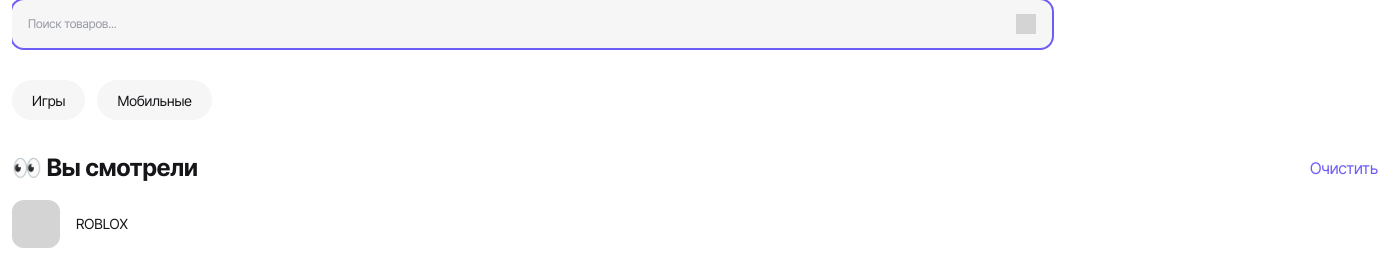
Test: SearchScreen › shows recent searches first and can clear them
expect the heading "👀 Вы смотрели" is shown: met, box x1=12 y1=152 x2=198 y2=184
Click the button "Очистить" at (1344, 168), box x1=1310 y1=156 x2=1378 y2=180
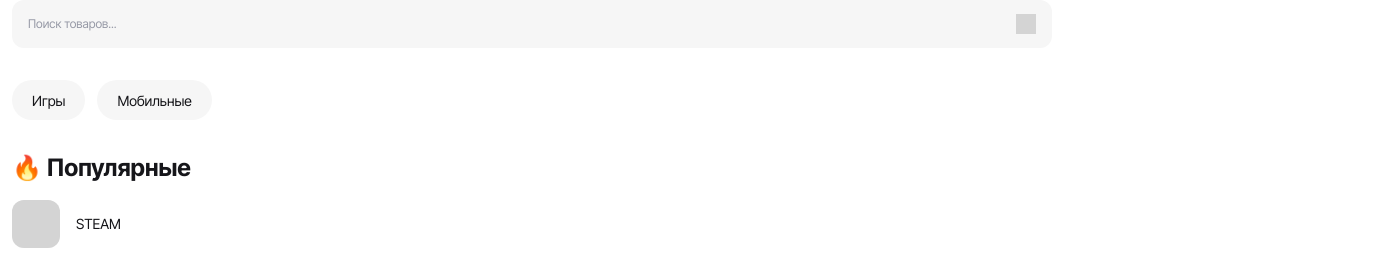
expect the heading "🔥 Популярные" is shown: met, box x1=12 y1=152 x2=191 y2=184
expect the link "STEAM" is shown: met, box x1=12 y1=200 x2=121 y2=248
